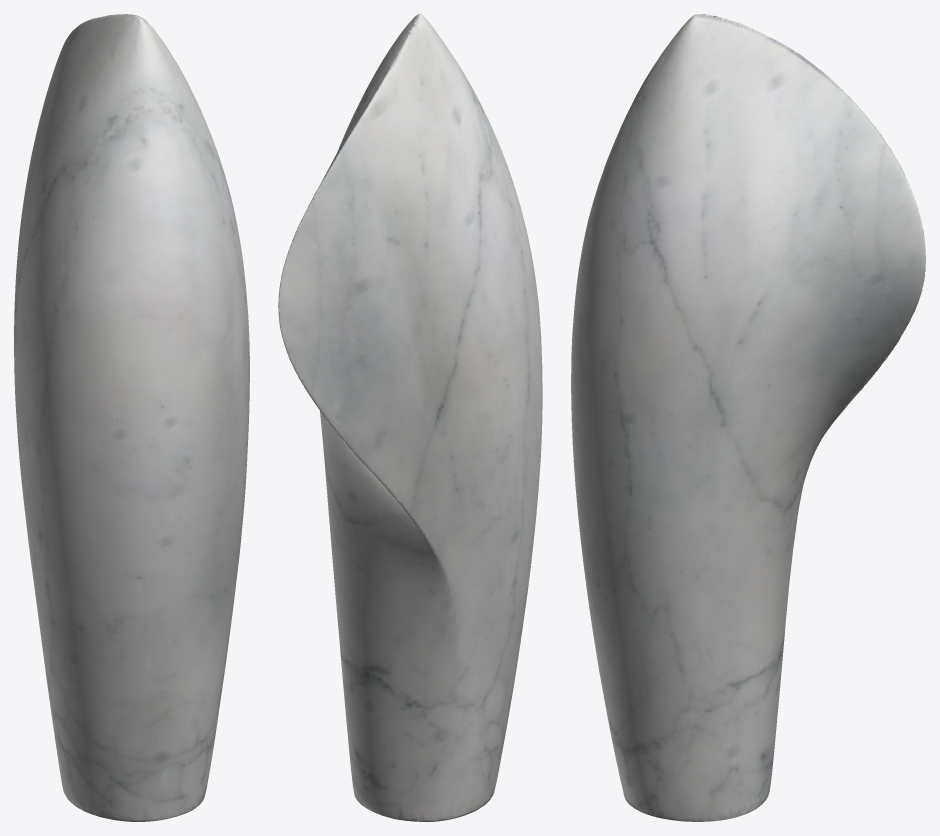
3 views of the same model, side by side, from view 1: azimuth 30°, elevation 25°; view 2: azimuth 150°, elevation 25°; view 3: azimuth 270°, elevation 25° (orthographic).
Visible parts, largest first — view 1: mmGroup0; view 2: mmGroup0; view 3: mmGroup0.
Boxes of the visible parts, x1,y1,x2,y2 form: mmGroup0: (14,14,249,821); mmGroup0: (278,14,542,821); mmGroup0: (571,14,925,821).
Size of the model in its own units: 4.64 by 17.77 by 7.33.
Materials: 2 (1 with a texture image).
